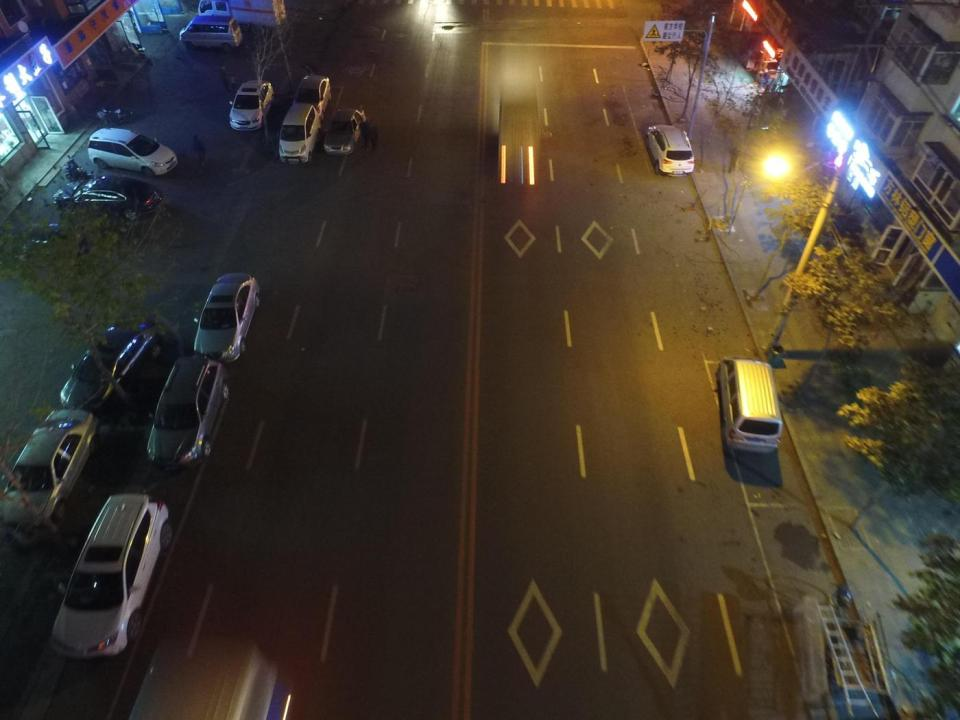bus: (494, 75, 544, 193)
car: (50, 492, 172, 662), (2, 407, 97, 533), (147, 357, 230, 469), (60, 322, 160, 410), (194, 272, 260, 366), (8, 224, 113, 274), (54, 177, 163, 219), (90, 128, 176, 176), (647, 124, 695, 176), (230, 80, 274, 130), (324, 107, 363, 158), (294, 74, 332, 117)
truck: (198, 0, 284, 28)
van: (130, 632, 292, 720), (718, 356, 782, 454), (277, 102, 321, 166), (181, 14, 243, 50)
